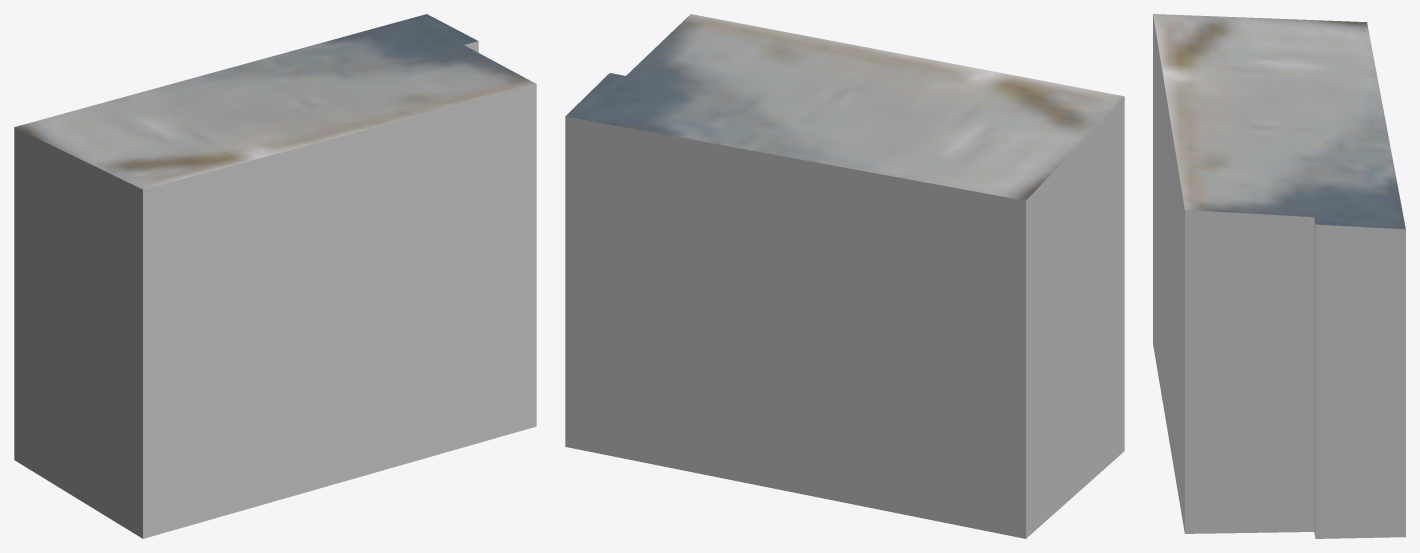
File: DEBW_0010007Tx9r.gltf
The picture shows the model from 3 angles, left to right: view 1: azimuth 30°, elevation 25°; view 2: azimuth 150°, elevation 25°; view 3: azimuth 270°, elevation 25°; orthographic projection. The views are drawn at different scales.
Parts seen in each view (by area): view 1: Z_UP; view 2: Z_UP; view 3: Z_UP.
Part boxes in pixels (x1,y1,x2,y2): Z_UP: (14, 14, 536, 538); Z_UP: (565, 14, 1124, 538); Z_UP: (1153, 14, 1405, 538).
Size of the model in its own units: 8.86 by 6.76 by 4.69.
Materials: 2 (1 with a texture image).
